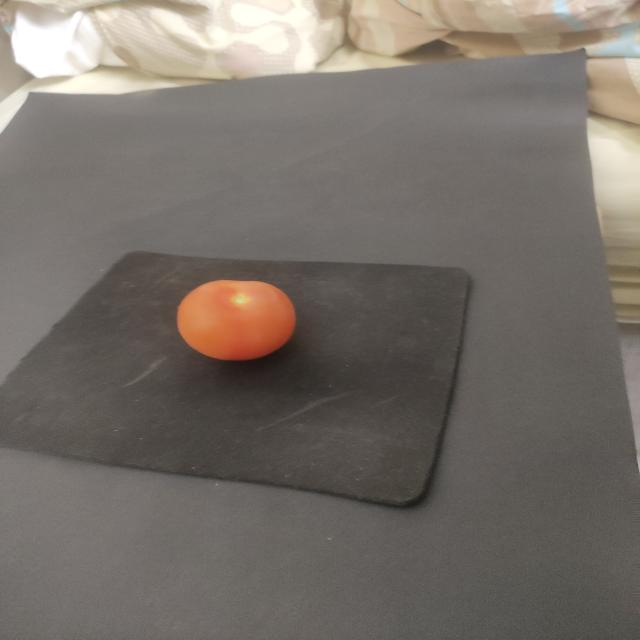sari: (164, 277, 302, 364)
